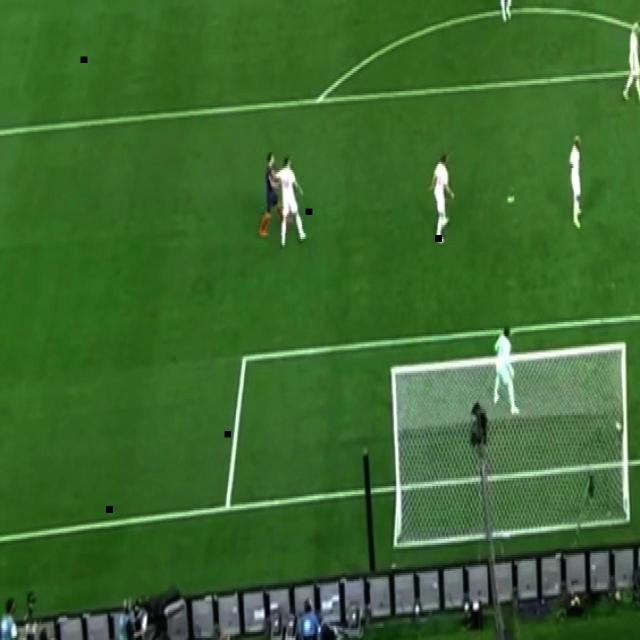player-white: (276, 151, 310, 246), (430, 150, 456, 250), (258, 148, 284, 238), (492, 326, 517, 408), (618, 22, 640, 106), (569, 130, 584, 234), (494, 0, 515, 24)
